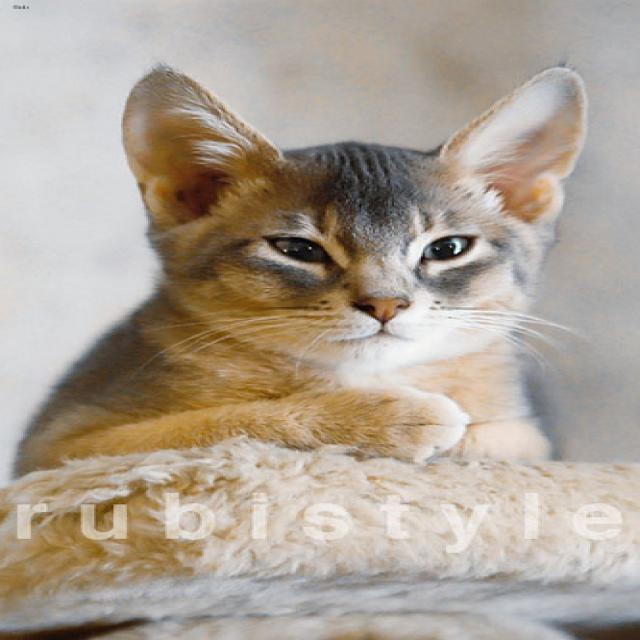Abyssinian: (114, 65, 565, 367)
